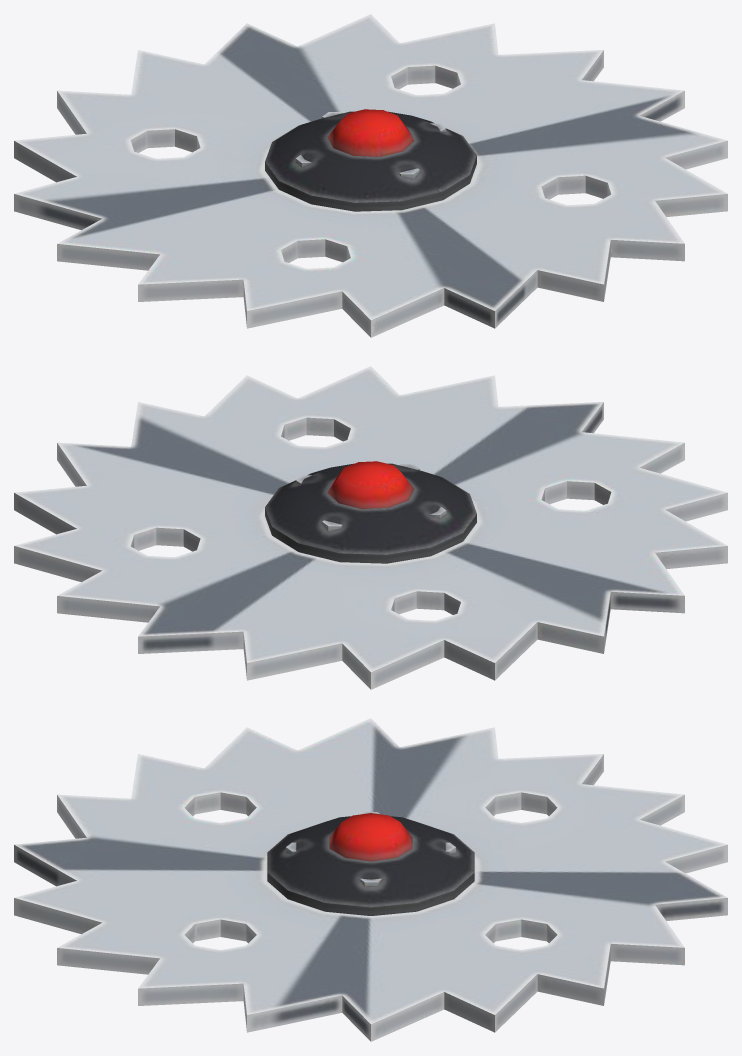
The model's file is proj_saw.glb.
3 views of the same model, one above another, from view 1: azimuth 30°, elevation 25°; view 2: azimuth 150°, elevation 25°; view 3: azimuth 270°, elevation 25° (orthographic).
Parts seen in each view (by area): view 1: proj_saw; view 2: proj_saw; view 3: proj_saw.
Part boxes in pixels (box(x1,y1,x2,y2)): proj_saw: box(14, 14, 727, 337); proj_saw: box(14, 366, 727, 689); proj_saw: box(14, 718, 727, 1041).
Bounding box in the file's own units: 0.3 × 0.0556 × 0.2954.
Materials: 4 (4 with a texture image).
